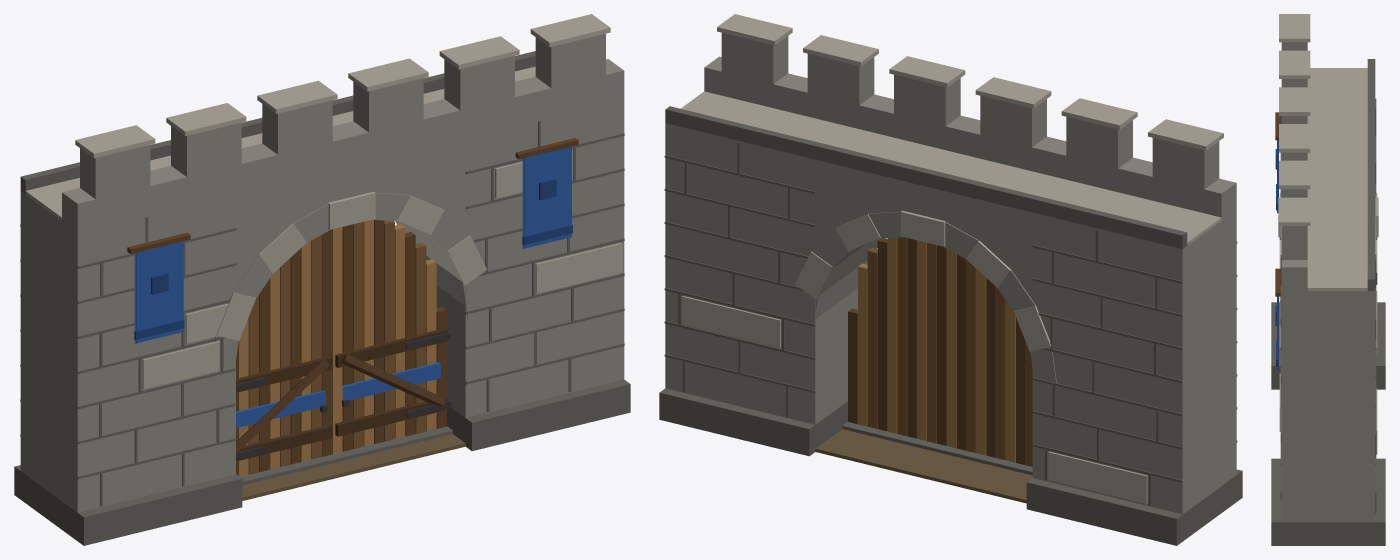
File: stone-gate.glb
3 views of the same model, side by side, from view 1: azimuth 30°, elevation 25°; view 2: azimuth 150°, elevation 25°; view 3: azimuth 270°, elevation 25° (orthographic). The views are drawn at different scales.
Parts seen in each view (by area): view 1: stone-gate; view 2: stone-gate; view 3: stone-gate.
Boxes of the visible parts, x1,y1,x2,y2 form: stone-gate: (14,14,630,545); stone-gate: (659,14,1242,545); stone-gate: (1271,14,1385,545).
Size of the model in its own units: 10 by 6.73 by 2.2.
Materials: 1 (1 with a texture image).
